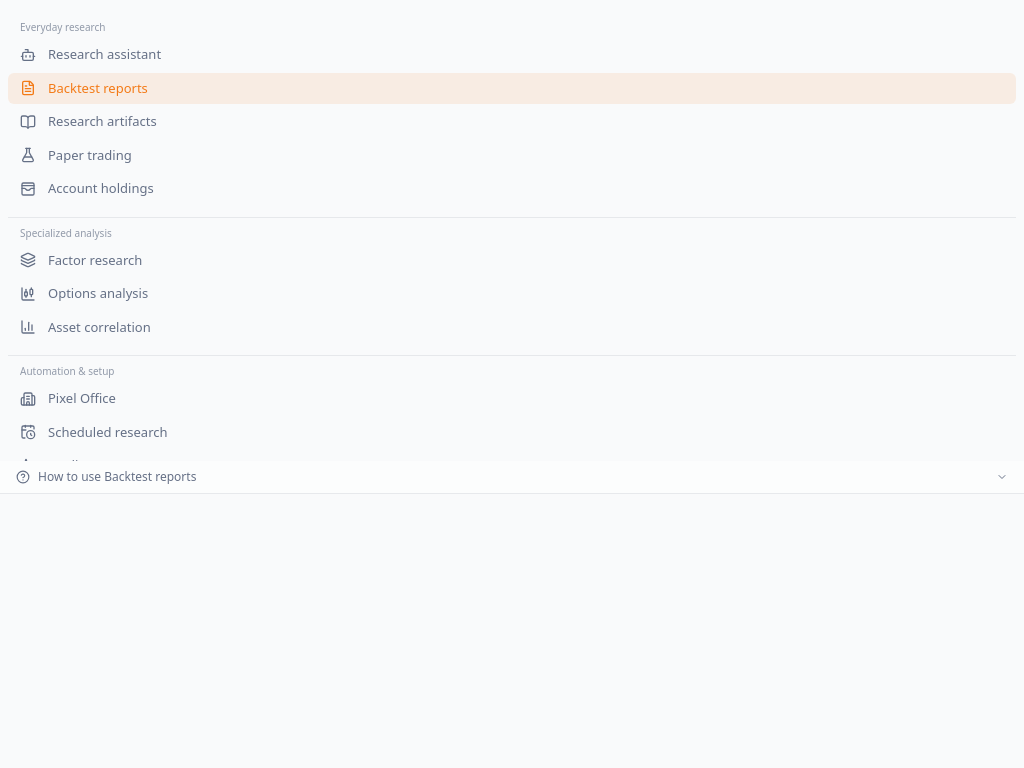
Test: explains the backtest prerequisite and the separate location of chat-generated documents
The image size is (1024, 768).
Click the heading "How to use Backtest reports" at point(117, 476), box x1=16 y1=469 x2=1008 y2=485
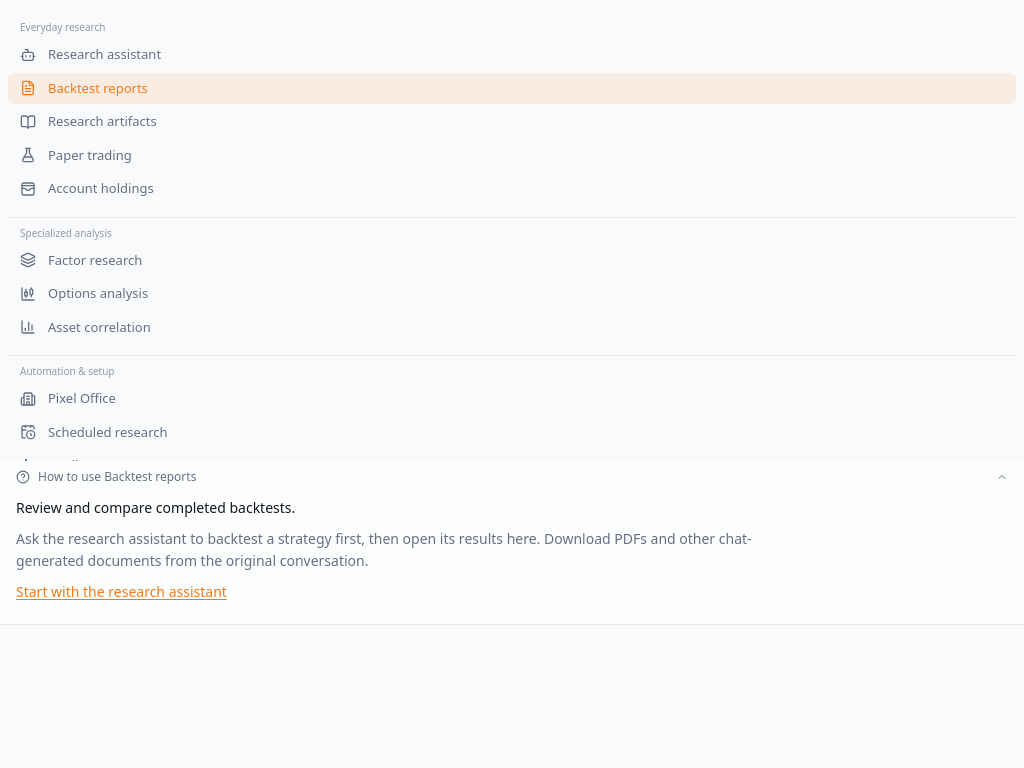
Expected: the text "Download PDFs and other chat-generated documents" is shown, x1=16 y1=528 x2=752 y2=570
